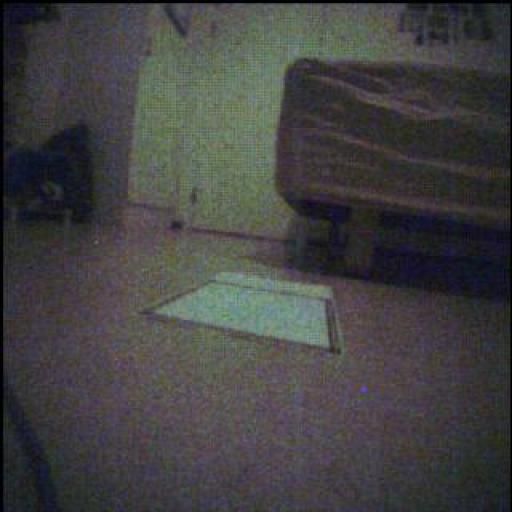pad: (145, 273, 342, 355)
